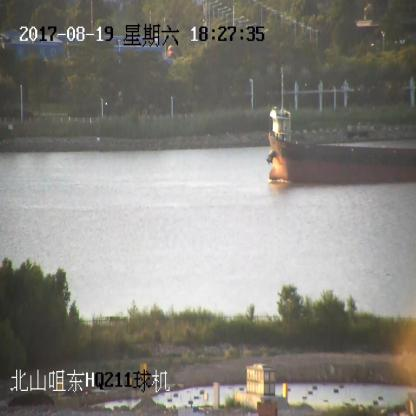Bulk Carrier: (270, 110, 415, 187)
